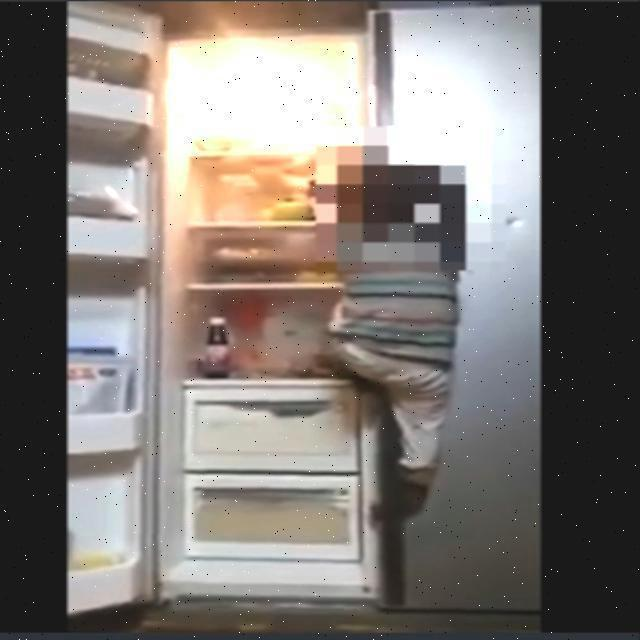child: (314, 158, 439, 522)
